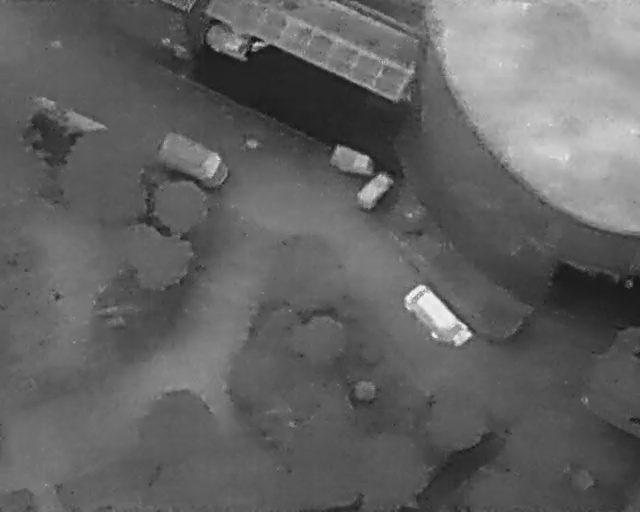Car: (151, 127, 234, 195), (398, 279, 473, 354), (351, 169, 397, 216), (329, 144, 377, 179)
